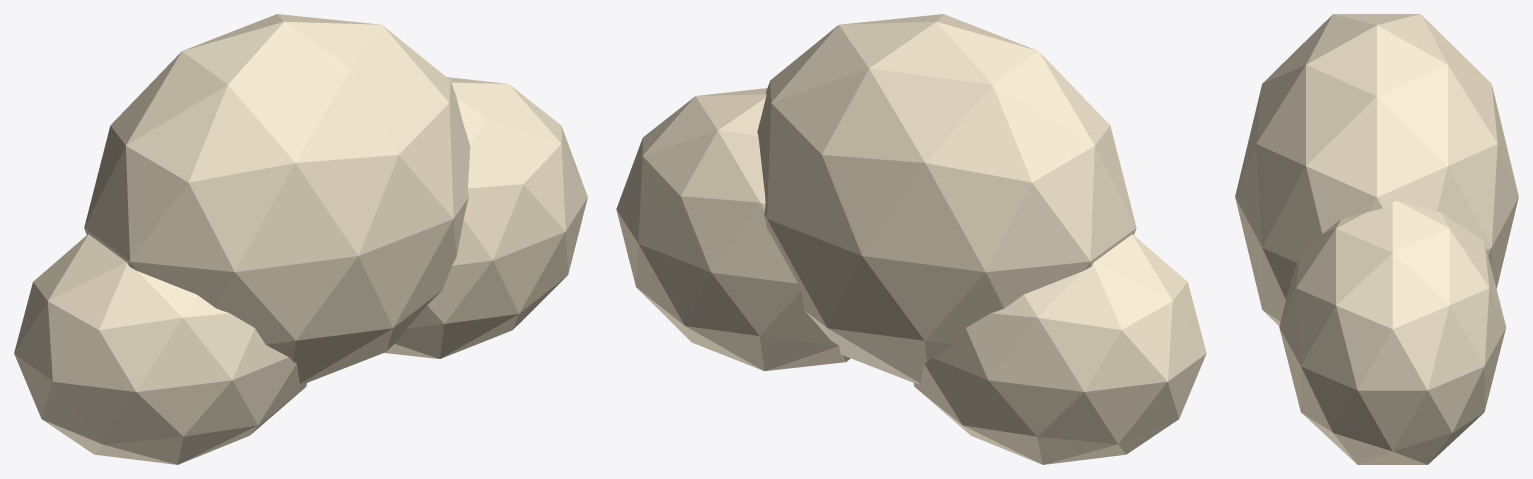
The model's file is hsc3_steam_cluster_unit.glb.
3 views of the same model, side by side, from view 1: azimuth 30°, elevation 25°; view 2: azimuth 150°, elevation 25°; view 3: azimuth 270°, elevation 25° (orthographic). The views are drawn at different scales.
Visible parts, largest first — view 1: hsc3_steam_cluster_unit__hsc3-pale-trim; view 2: hsc3_steam_cluster_unit__hsc3-pale-trim; view 3: hsc3_steam_cluster_unit__hsc3-pale-trim.
Part boxes in pixels (x1,y1,x2,y2): hsc3_steam_cluster_unit__hsc3-pale-trim: [14, 14, 587, 464]; hsc3_steam_cluster_unit__hsc3-pale-trim: [616, 14, 1206, 464]; hsc3_steam_cluster_unit__hsc3-pale-trim: [1235, 14, 1518, 464].
Bounding box in the file's own units: 1.9 × 1.35 × 0.9.
